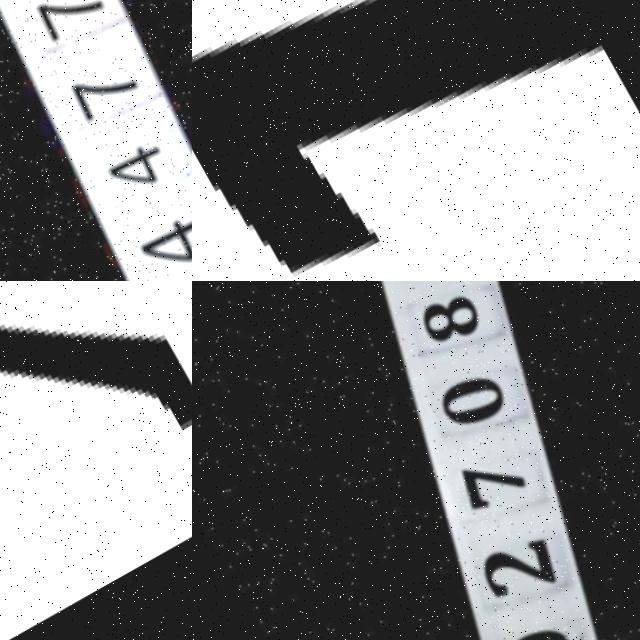0: (410, 349, 532, 463), (472, 598, 601, 640)
1: (192, 0, 640, 281)
2: (451, 513, 580, 633)
4: (89, 131, 185, 215), (119, 201, 192, 281)
7: (433, 434, 552, 544), (55, 50, 157, 142), (24, 0, 121, 58)
8: (392, 281, 504, 374)
X: (0, 281, 192, 640)
